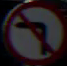Don't turn left: (6, 4, 56, 57)
